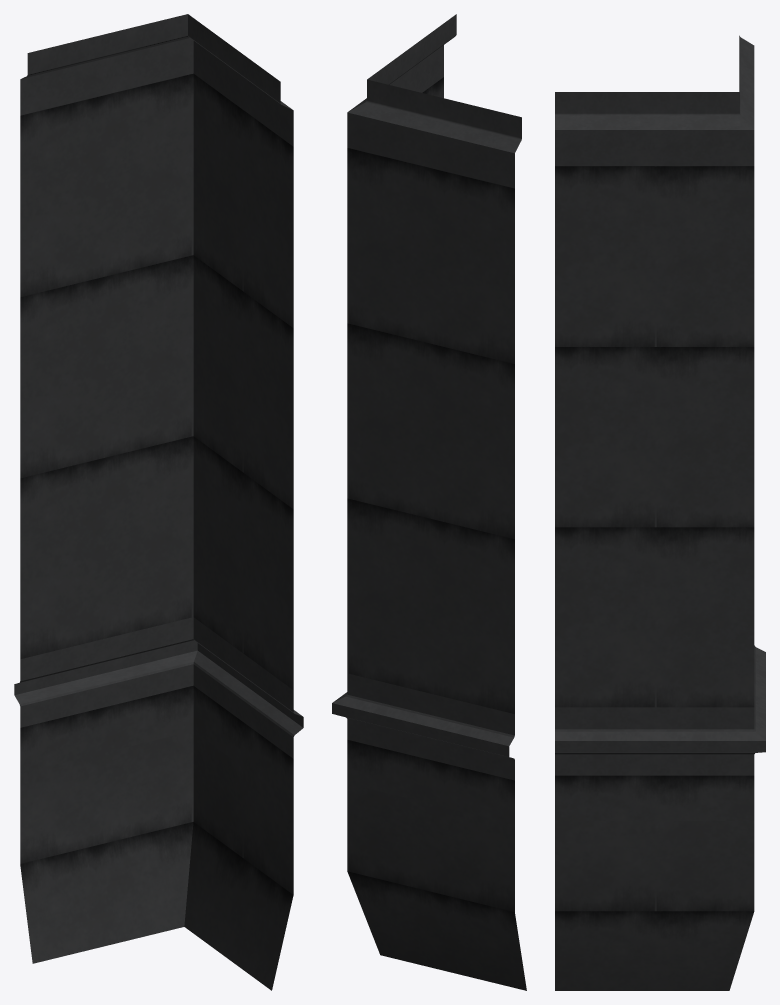
Rendered from M_Wall_Concave_Corner_4x20_v4.fbx.
The picture shows the model from 3 angles, left to right: view 1: azimuth 30°, elevation 25°; view 2: azimuth 150°, elevation 25°; view 3: azimuth 270°, elevation 25°; orthographic projection. The views are drawn at different scales.
Parts seen in each view (by area): view 1: Wall_Corner_Concave_4x20_v4; view 2: Wall_Corner_Concave_4x20_v4; view 3: Wall_Corner_Concave_4x20_v4.
Part boxes in pixels (left/top/right/bottom): Wall_Corner_Concave_4x20_v4: left=14, top=14, right=303, bottom=990; Wall_Corner_Concave_4x20_v4: left=332, top=14, right=526, bottom=990; Wall_Corner_Concave_4x20_v4: left=555, top=35, right=765, bottom=990.
Size of the model in its own units: 423 by 2000 by 423.
